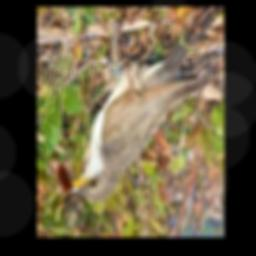Cuckoo: (69, 6, 222, 201)
